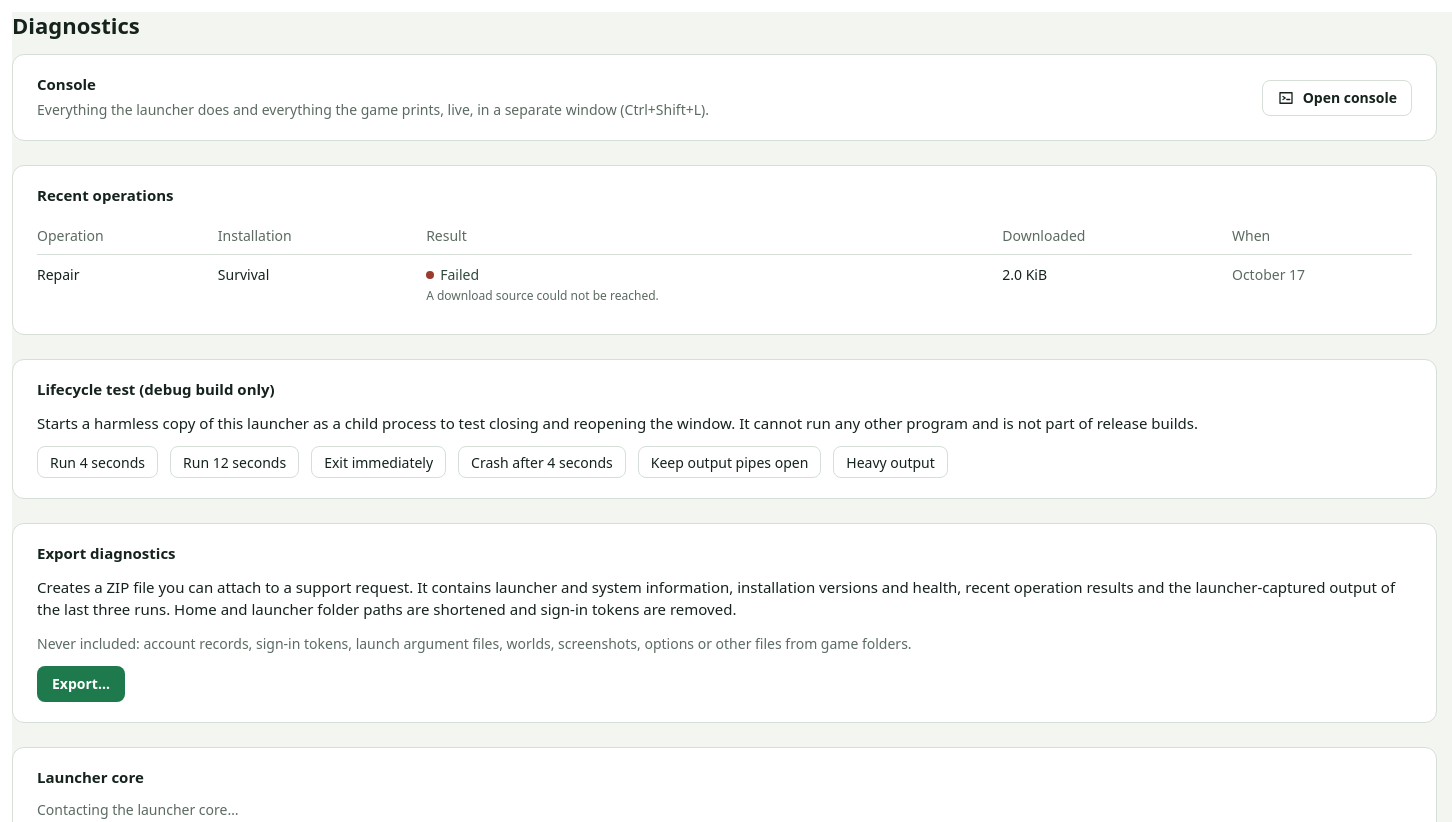
Scenario: DiagnosticsView › opens the console from its row and says why it could not
The image size is (1452, 822).
Click the button "Open console" at (1337, 98), box x1=1262 y1=80 x2=1412 y2=116
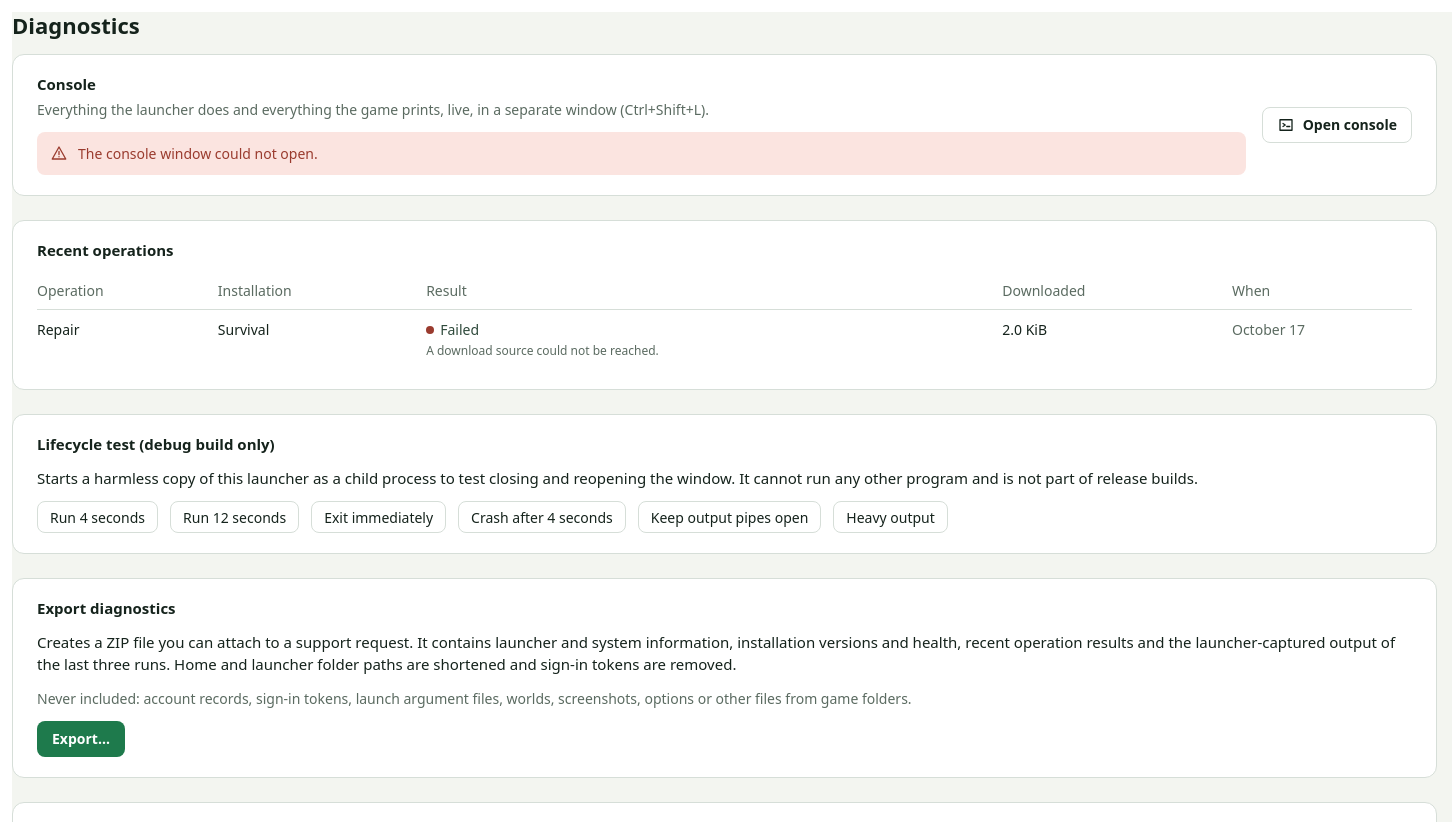
Expected: the text "The console window could not open." is shown, x1=78 y1=144 x2=318 y2=163
